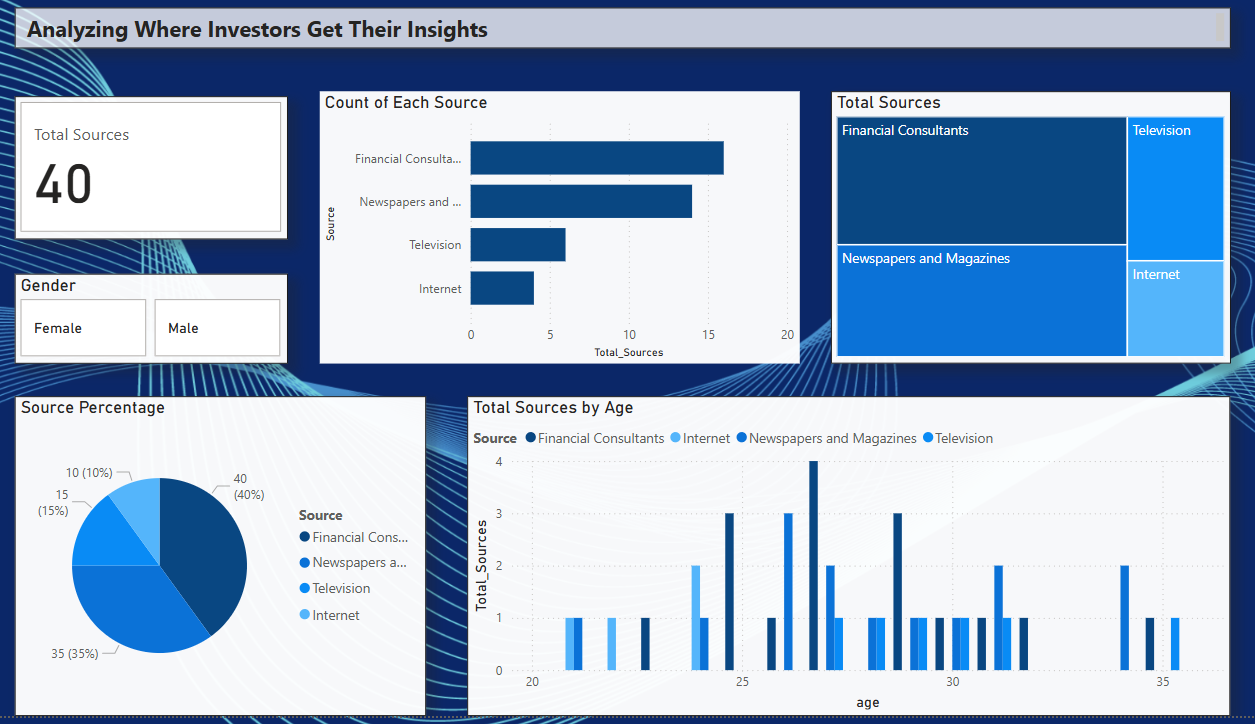

This screenshot's page, from the dashboard's own definition file:
{"tool":"powerbi","page":{"name":"Task 6","canvas":[1280,720],"ordinal":5},"visuals":[{"type":"barChart","title":"Count of Each Source","fields":{"Category":["Data_set 2.Source"],"Y":["Data_set 2.Total_Sources"]},"box":[341.7,108.4,469.3,266.2],"z":0},{"type":"pieChart","title":"Source Percentage","fields":{"Category":["Data_set 2.Source"],"Y":["Data_set 2.Source_Percentage"]},"box":[42.5,407.5,402.1,312.9],"z":1000},{"type":"clusteredColumnChart","title":"Total Sources by Age ","fields":{"Category":["Data_set 2.age"],"Series":["Data_set 2.Source"],"Y":["Data_set 2.Total_Sources"]},"box":[485.8,407.5,746.5,312.9],"z":2000},{"type":"treemap","title":"Total Sources ","fields":{"Group":["Data_set 2.Source"],"Values":["Data_set 2.Total_Sources"]},"box":[841.2,108.4,391.1,266.2],"z":3000},{"type":"advancedSlicerVisual","fields":{"Values":["Data_set 2.gender"]},"box":[42.5,286.8,267.6,87.8],"z":4000},{"type":"cardVisual","fields":{"Data":["Data_set 2.Total_Sources"]},"box":[42.5,113.9,267.6,140],"z":5000},{"type":"textbox","box":[42.5,27.4,1189.7,39.8],"z":6000}]}

Visuals, with their boxes in screenshot pixels (x1, y1, x2, y2), scaled from the page's 1280x720 canvas onto the 1255x724 screenshot:
"Count of Each Source" barChart: <box>335,109,795,377</box>
"Source Percentage" pieChart: <box>42,410,436,723</box>
"Total Sources by Age " clusteredColumnChart: <box>476,410,1208,723</box>
"Total Sources " treemap: <box>825,109,1208,377</box>
advancedSlicerVisual - Data_set 2.gender: <box>42,288,304,377</box>
cardVisual - Data_set 2.Total_Sources: <box>42,115,304,255</box>
textbox: <box>42,28,1208,68</box>
